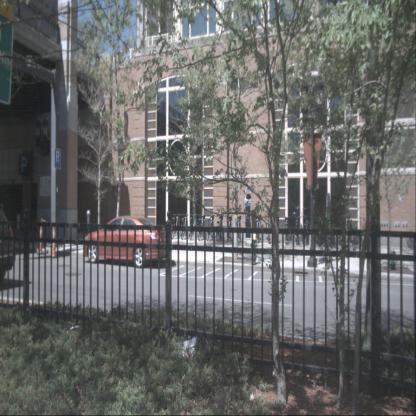cone: (49, 218, 58, 258), (36, 216, 45, 254)
